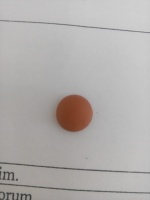Dolorex: (55, 93, 94, 134)
